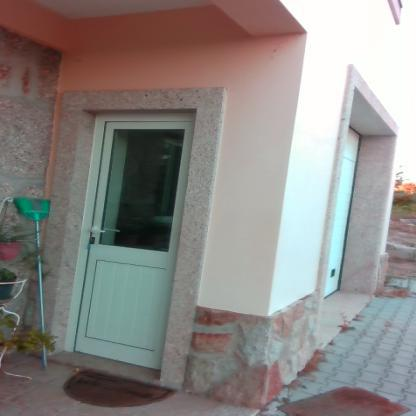door: (87, 116, 174, 362)
lever: (92, 230, 110, 235)
